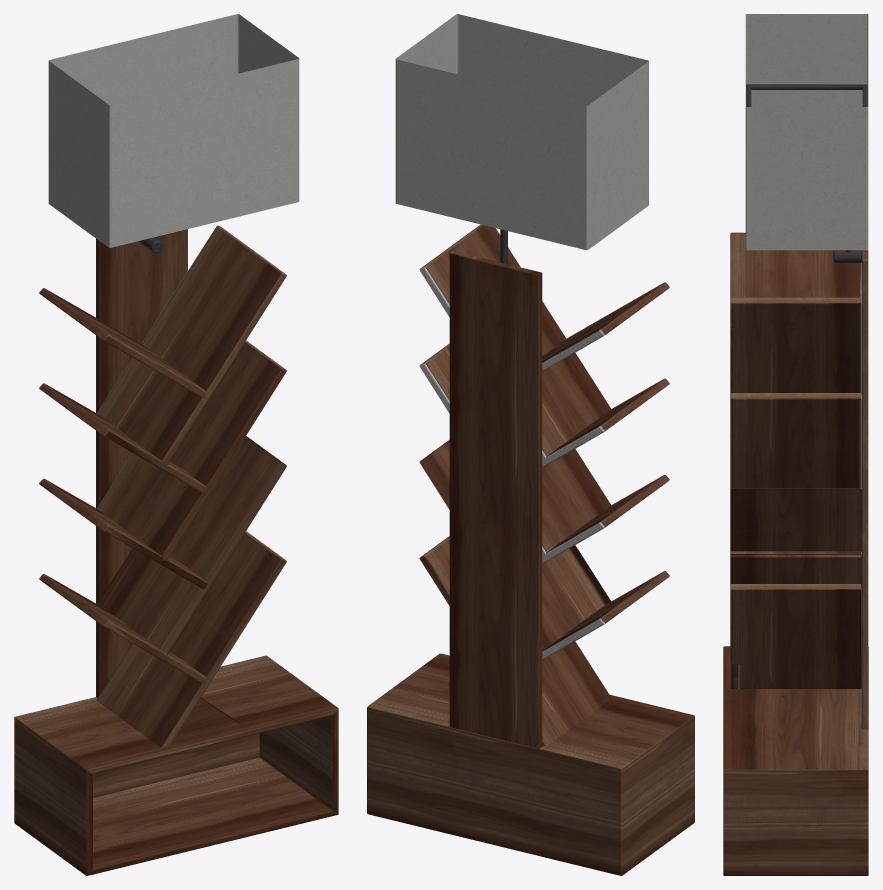
The model's file is tree-bookshelf.glb.
3 renders of one model, left to right at view 1: azimuth 30°, elevation 25°; view 2: azimuth 150°, elevation 25°; view 3: azimuth 270°, elevation 25°, orthographic.
Visible parts, largest first — view 1: lamp; view 2: lamp; view 3: lamp.
Boxes of the visible parts, box(x1,y1,x2,y2) form: lamp: box(14, 14, 338, 875); lamp: box(367, 14, 694, 875); lamp: box(723, 14, 868, 875).
Bounding box in the file's own units: 0.6067 × 1.73 × 0.3023.
1 material, 1 textured.
